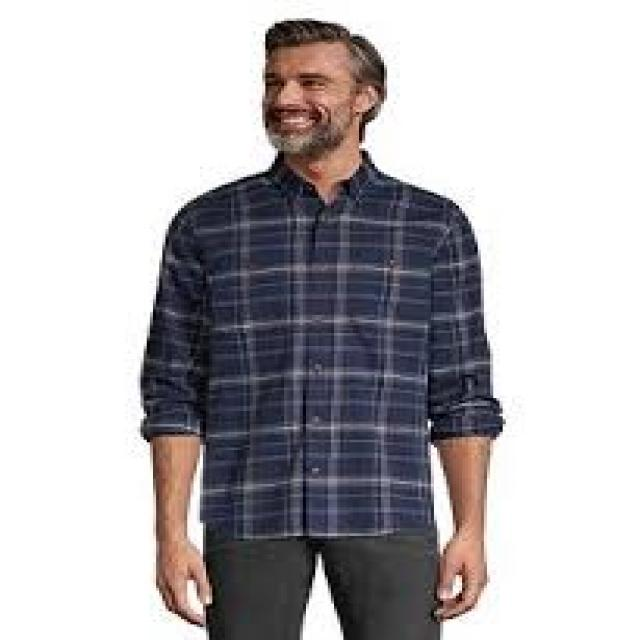plaid: (131, 167, 508, 539)
